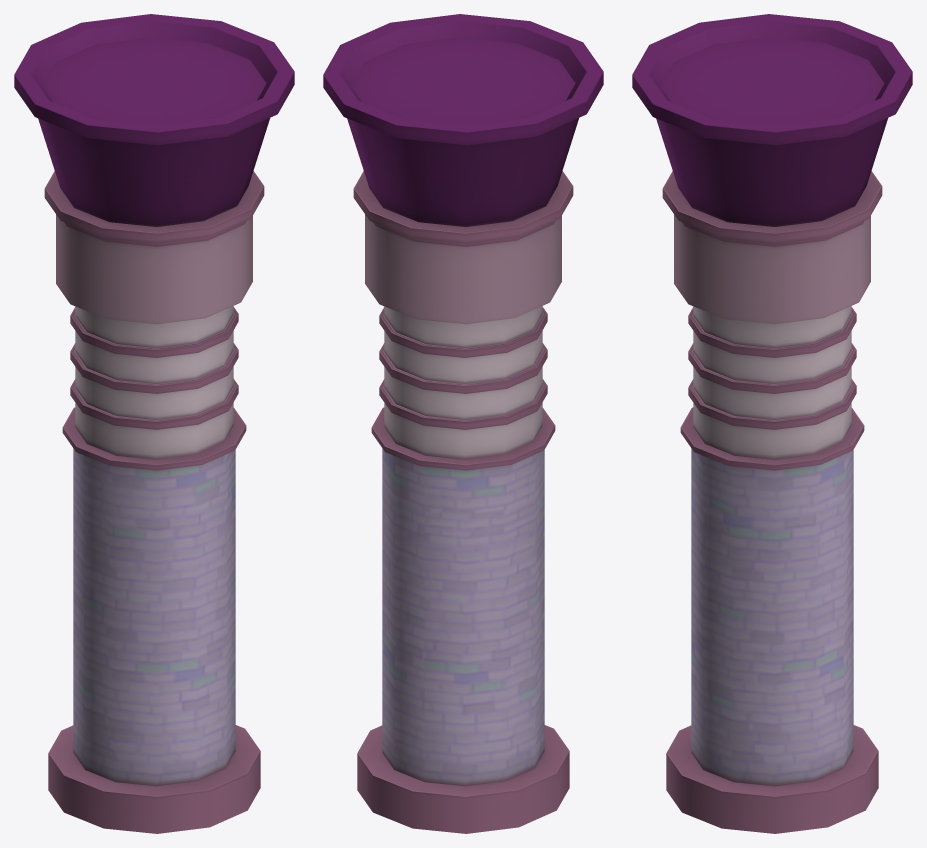
The model's file is Prefab_Stage_None.fbx.
The picture shows the model from 3 angles, left to right: view 1: azimuth 30°, elevation 25°; view 2: azimuth 150°, elevation 25°; view 3: azimuth 270°, elevation 25°; orthographic projection.
Parts seen in each view (by area): view 1: Stage_None_005; view 2: Stage_None_005; view 3: Stage_None_005.
Part boxes in pixels (x1=…): Stage_None_005: x1=14, y1=14, x2=294, y2=833; Stage_None_005: x1=323, y1=14, x2=603, y2=833; Stage_None_005: x1=632, y1=14, x2=912, y2=833.
Bounding box in the file's own units: 342 × 962 × 342.
